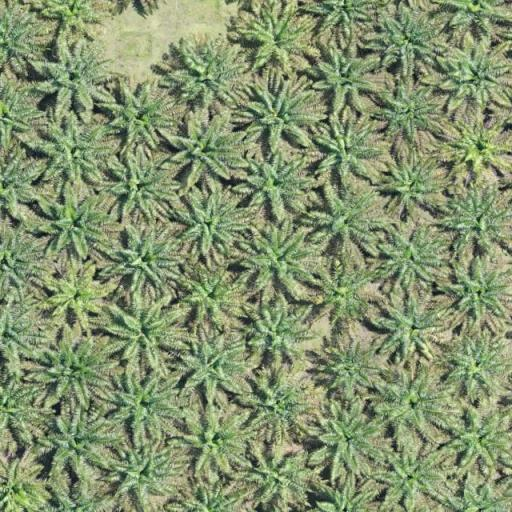Ganoderma: (57, 280, 96, 312), (459, 133, 498, 165)
